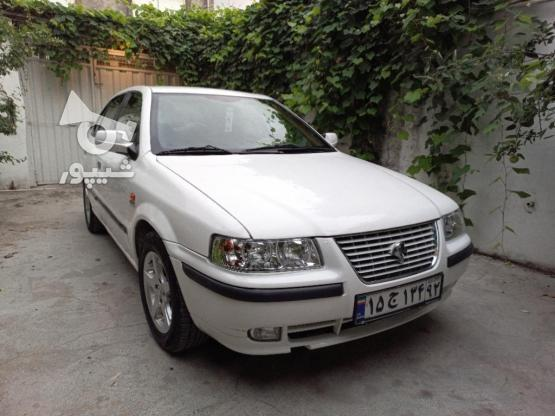car: (351, 270, 443, 328)
